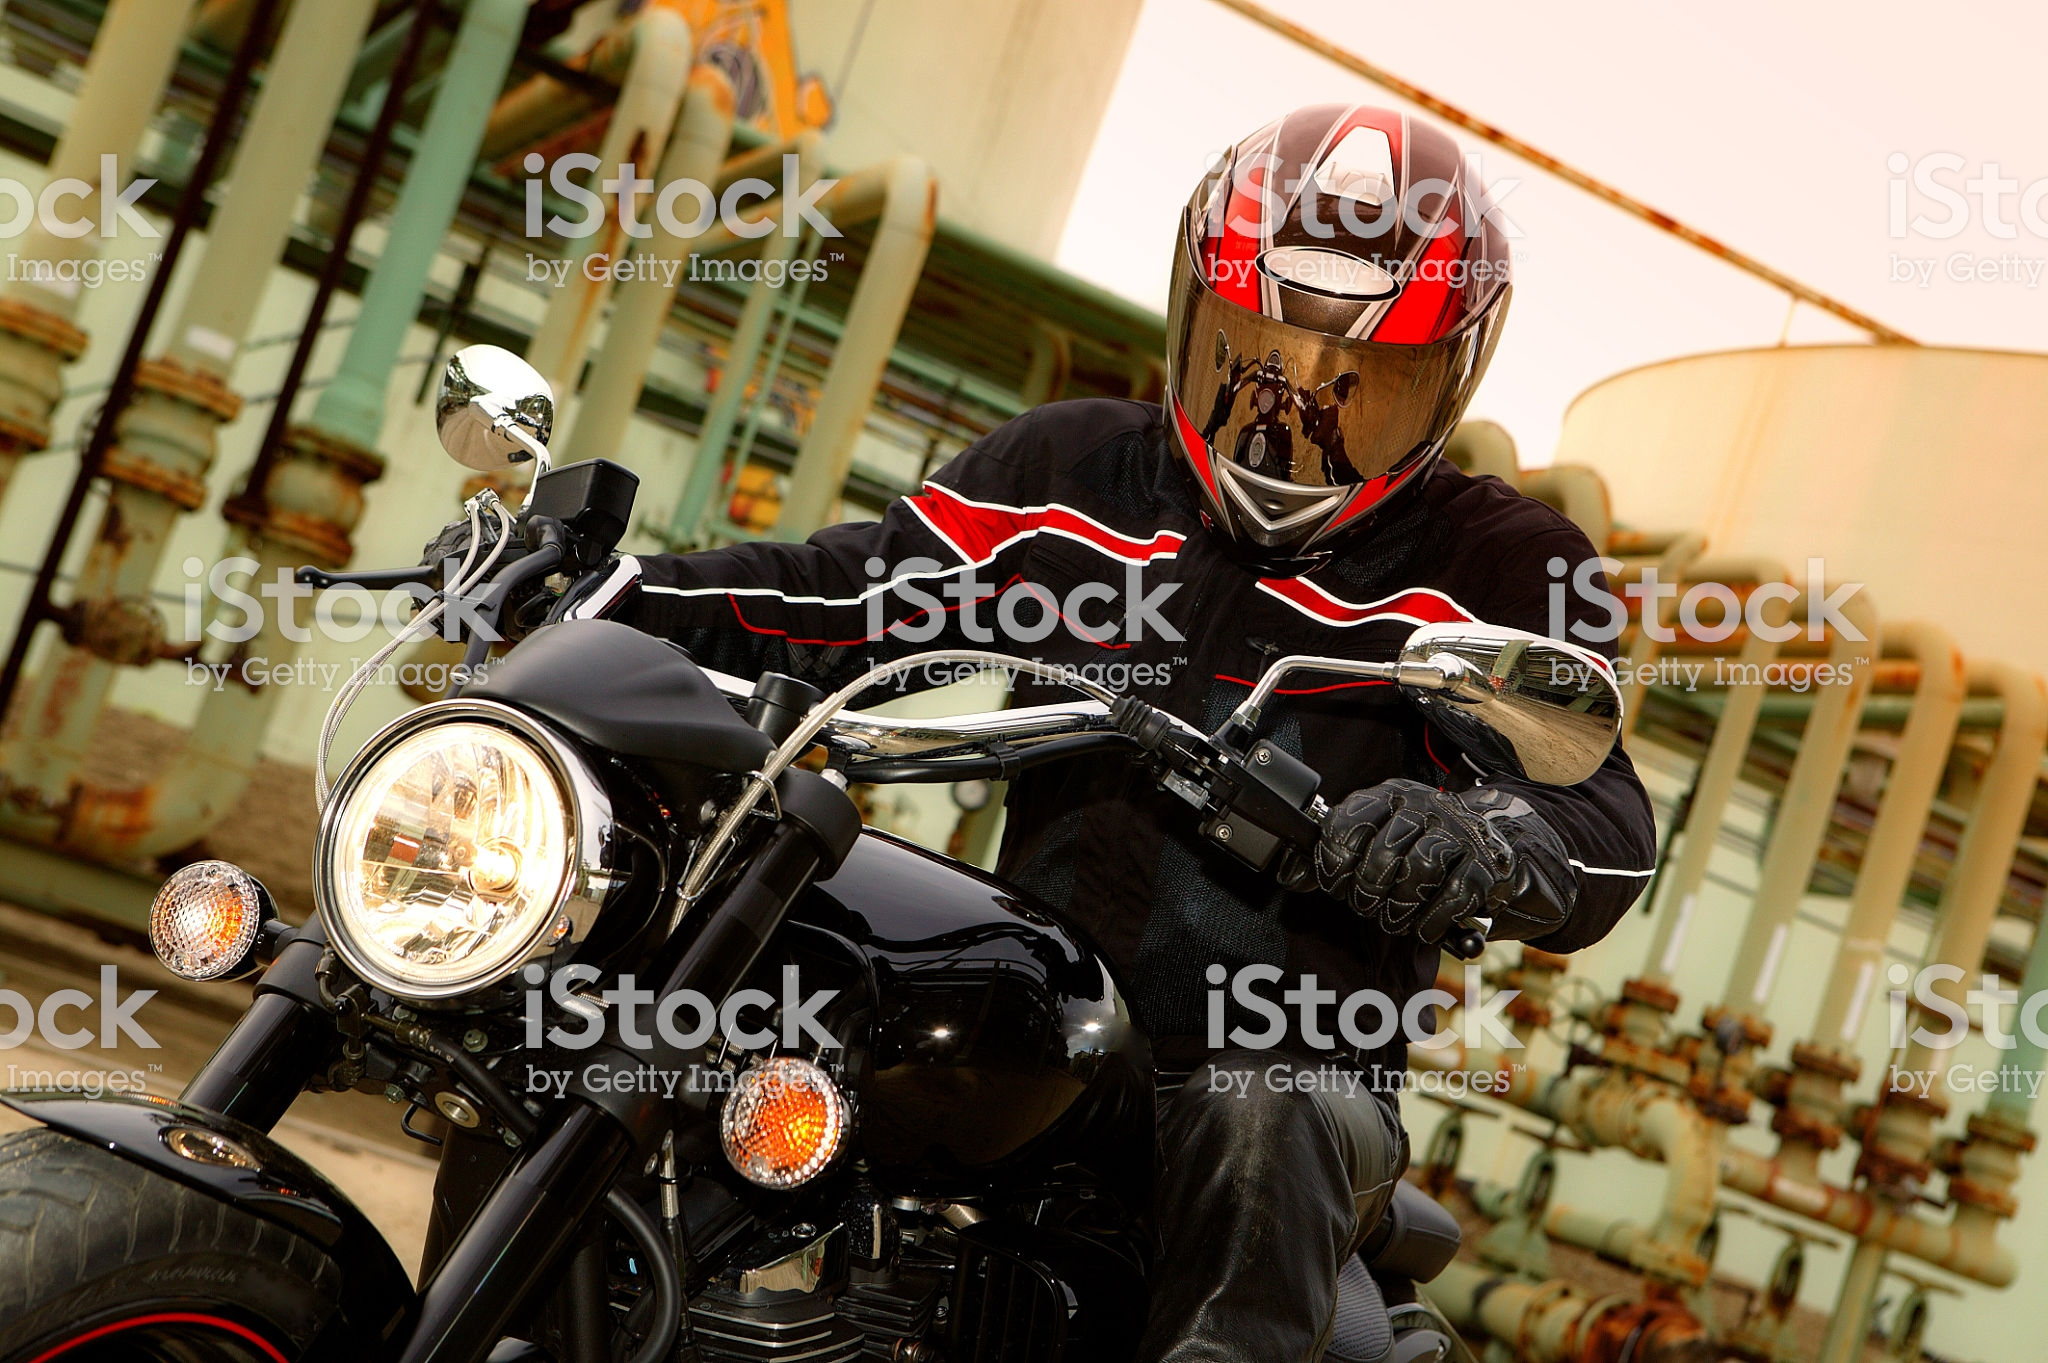helmet: (1143, 99, 1502, 583)
